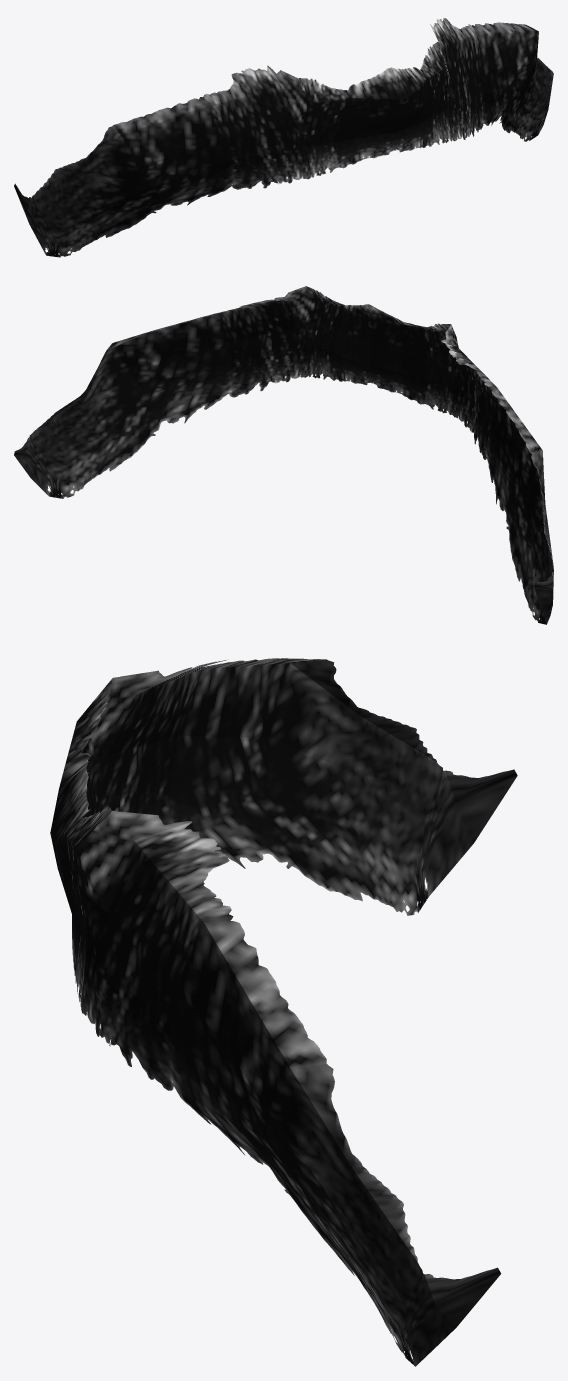
File: Moustache.fbx
3 renders of one model, top to bottom at view 1: azimuth 30°, elevation 25°; view 2: azimuth 150°, elevation 25°; view 3: azimuth 270°, elevation 25°, orthographic. The views are drawn at different scales.
Parts seen in each view (by area): view 1: Vert; view 2: Vert; view 3: Vert.
Boxes of the visible parts, x1,y1,x2,y2 form: Vert: (14,18,553,257); Vert: (14,286,553,624); Vert: (50,658,517,1366).
Bounding box in the file's own units: 12.75 × 4.69 × 4.96.
Materials: 1 (1 with a texture image).
